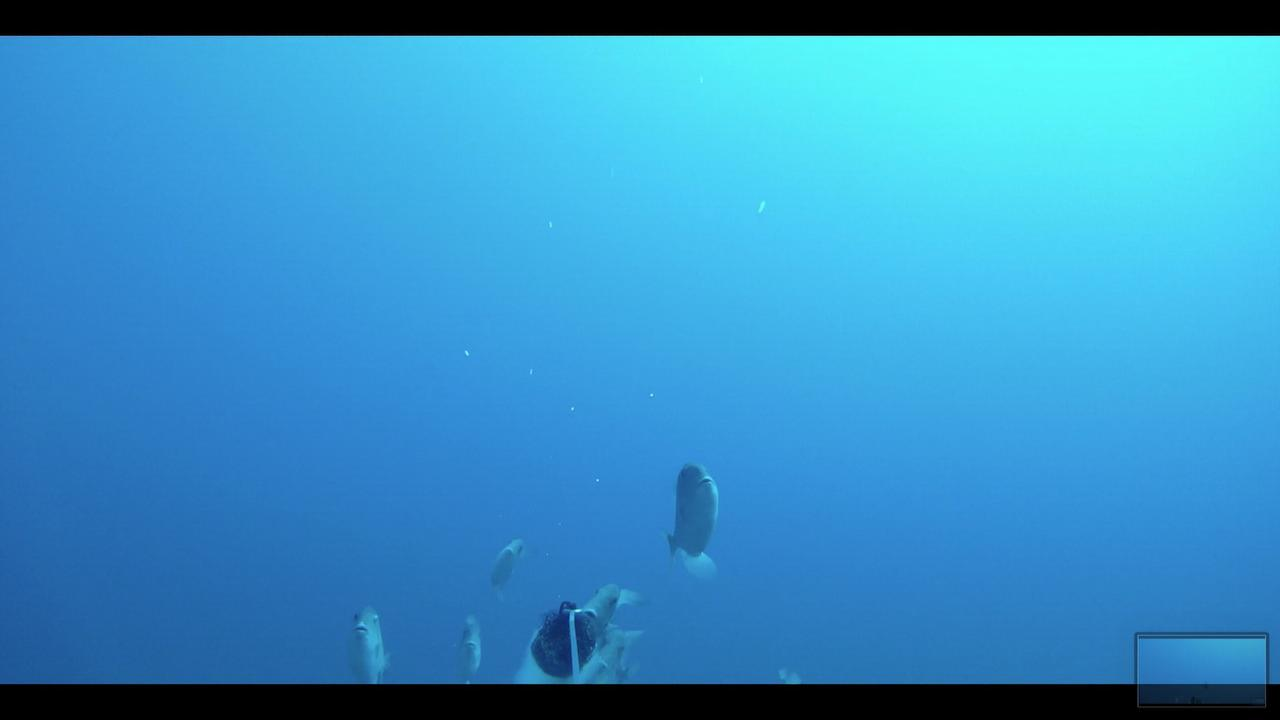balistes: (655, 459, 726, 586), (331, 590, 409, 685), (477, 531, 536, 593)
